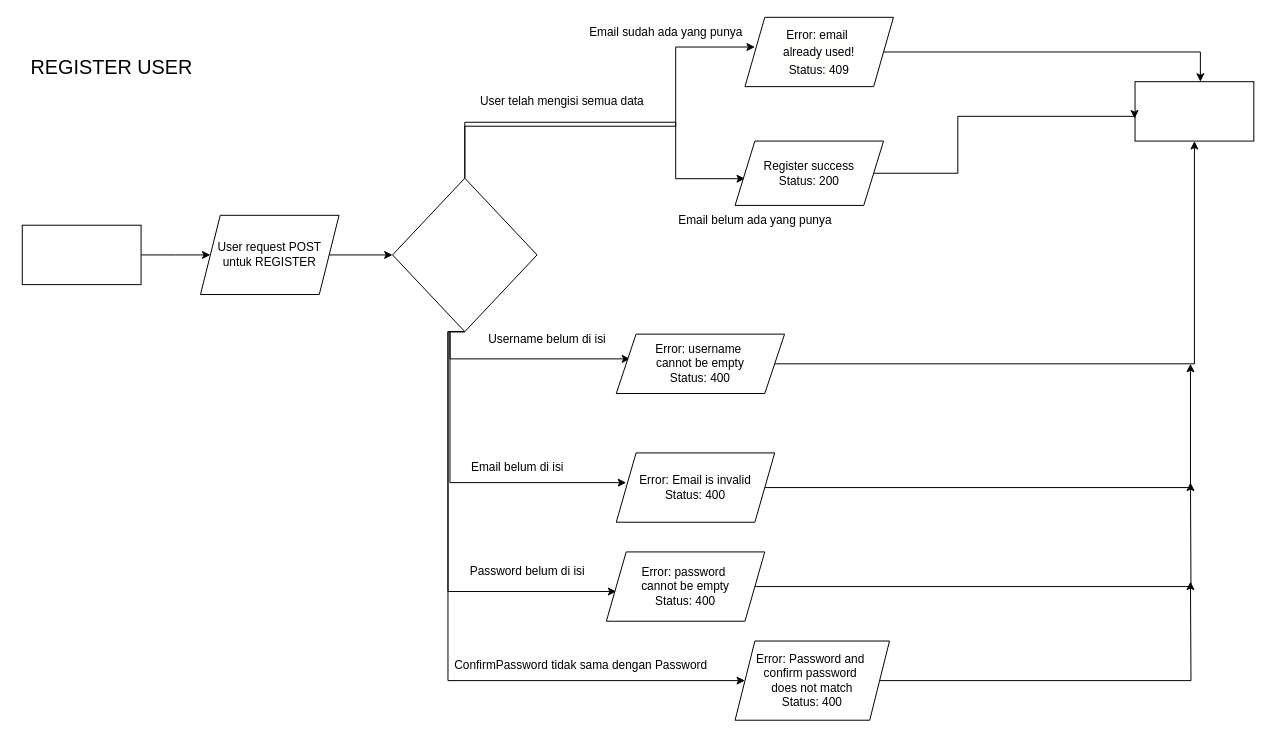
The diagram is 1271 pixels wide and 738 high, and some of its shapes have lost their labels. Each missing label, with the centre of its shape:
MULAI: point (81, 254)
SELESAI: point (1194, 111)
User mengirimkan UserName , Email , Password dan ConfirmPassword: point (464, 254)
